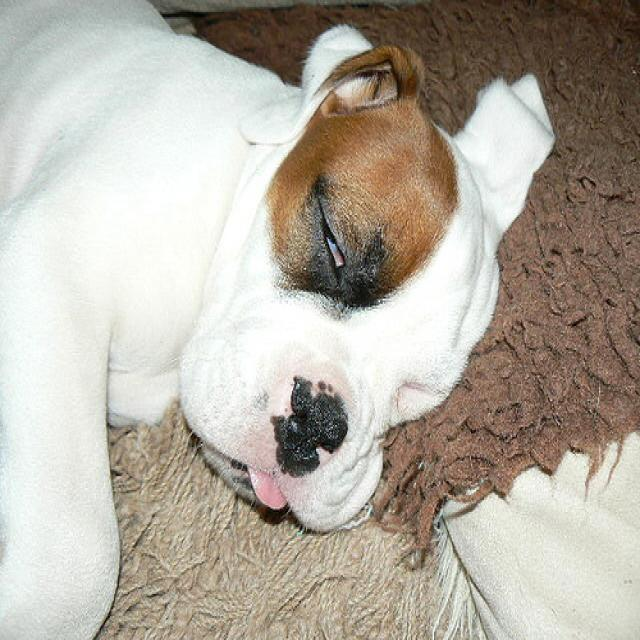dog-boxer: (1, 2, 556, 637)
